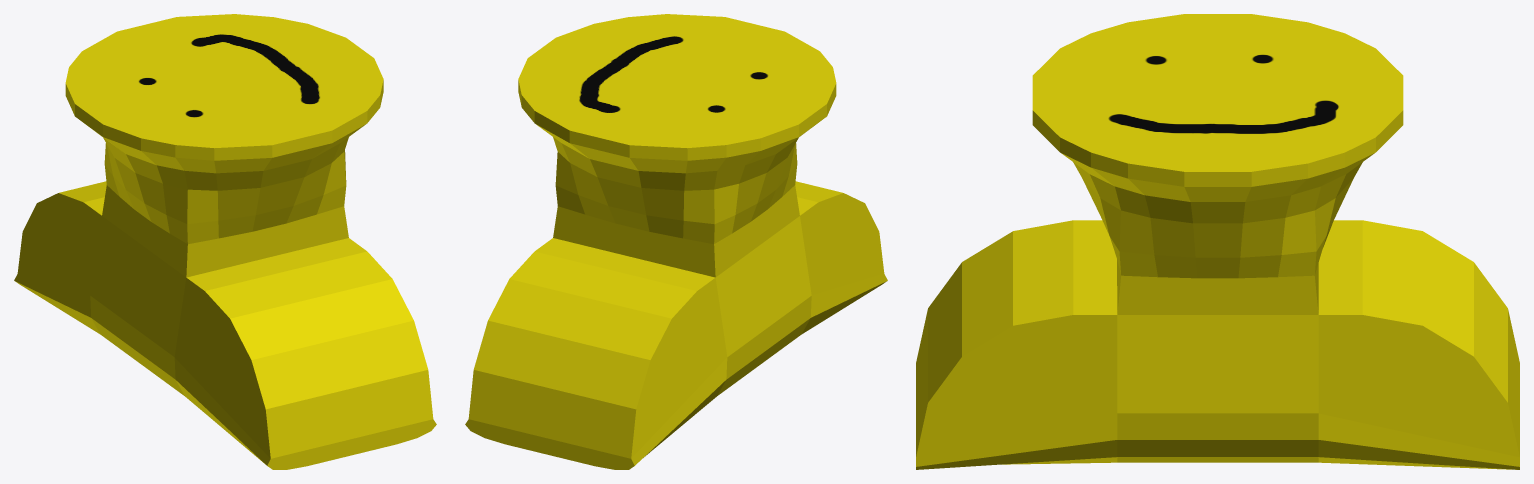
File: Wrist.glb
The picture shows the model from 3 angles, left to right: view 1: azimuth 30°, elevation 25°; view 2: azimuth 150°, elevation 25°; view 3: azimuth 270°, elevation 25°; orthographic projection. The views are drawn at different scales.
Parts seen in each view (by area): view 1: Cube.003; view 2: Cube.003; view 3: Cube.003.
Boxes of the visible parts, bbox=[...] form: Cube.003: bbox=[14, 14, 436, 469]; Cube.003: bbox=[465, 14, 887, 469]; Cube.003: bbox=[916, 14, 1519, 469].
Size of the model in its own units: 0.018 by 0.0179 by 0.0291.
1 material, 1 textured.
